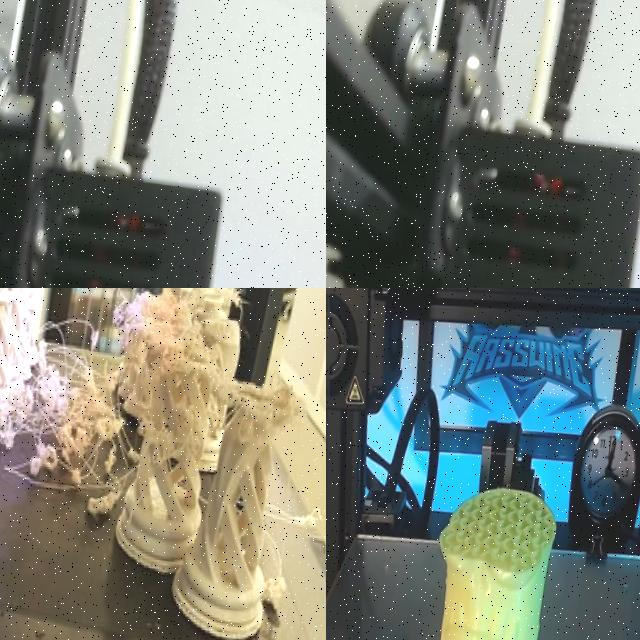spaghetti: (3, 336, 122, 498), (114, 288, 242, 383), (257, 492, 326, 626), (218, 369, 308, 441), (124, 402, 210, 469), (0, 422, 14, 452)
